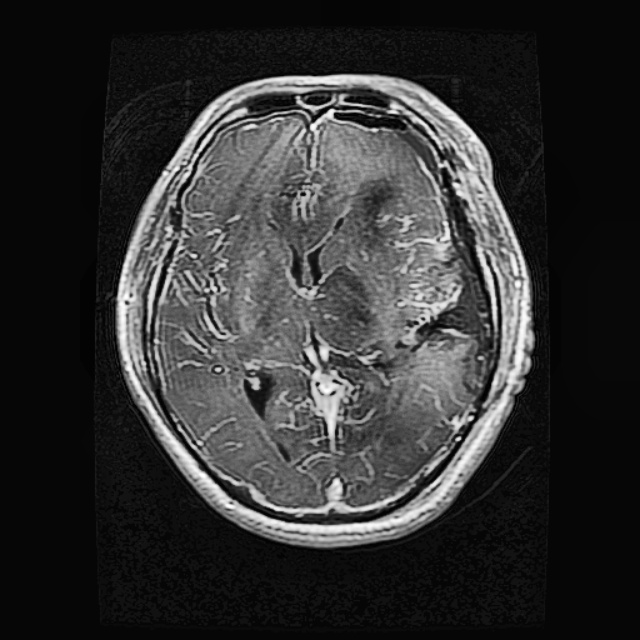Glioma: (397, 245, 489, 387)
